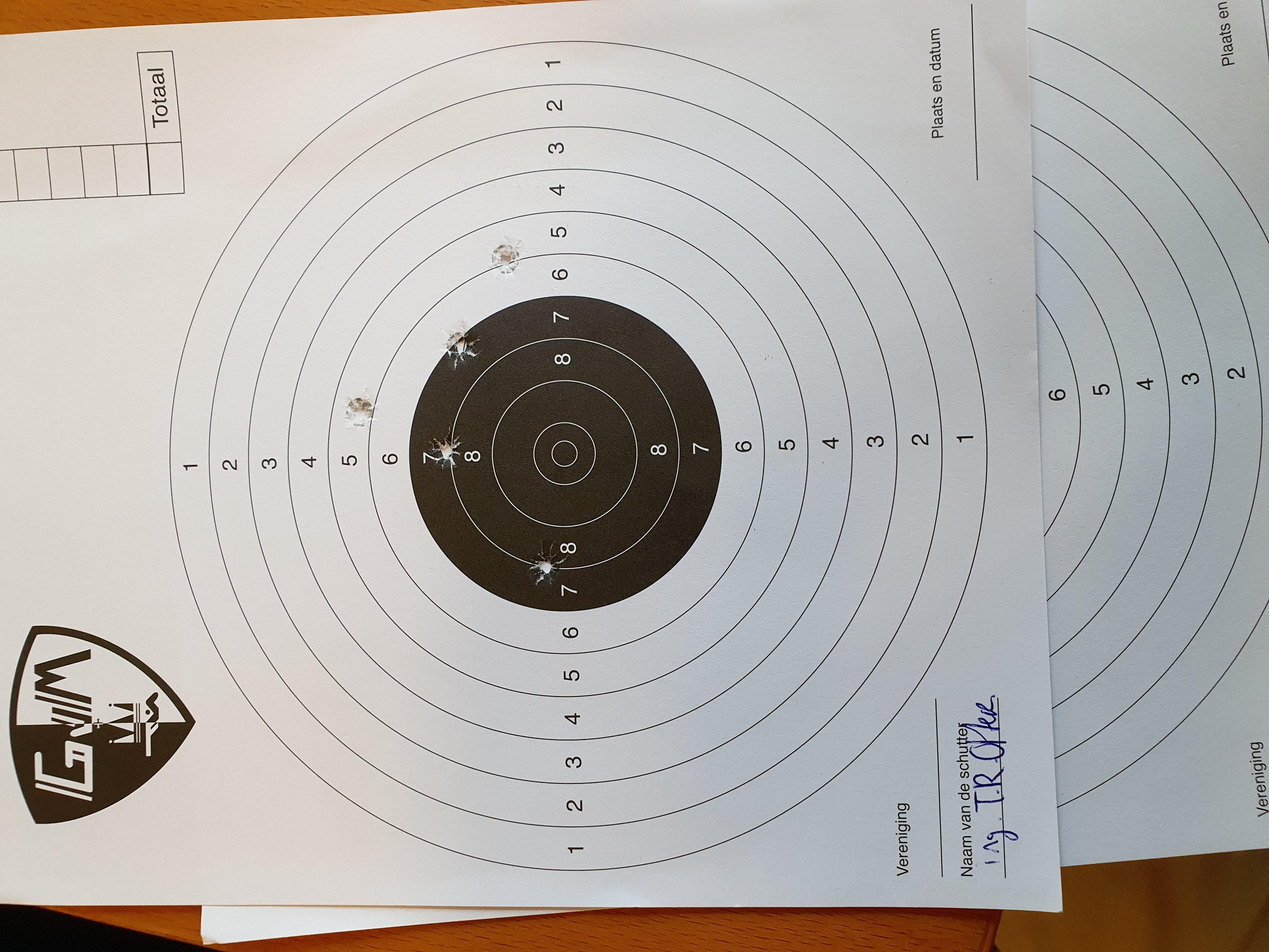hole: (775, 325, 839, 360), (897, 366, 952, 402), (640, 315, 699, 348), (480, 392, 535, 424), (694, 259, 744, 287)
